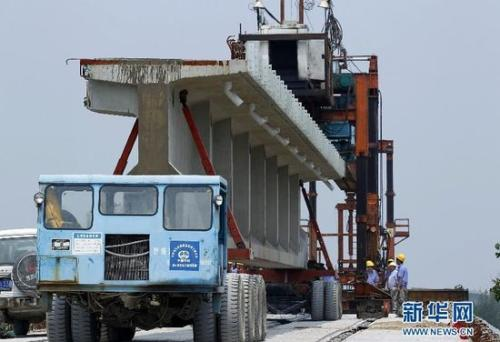hard-hat: (396, 252, 405, 262), (365, 260, 375, 267), (388, 262, 397, 267)
person: (395, 252, 408, 316), (385, 259, 399, 313), (364, 260, 380, 288)
